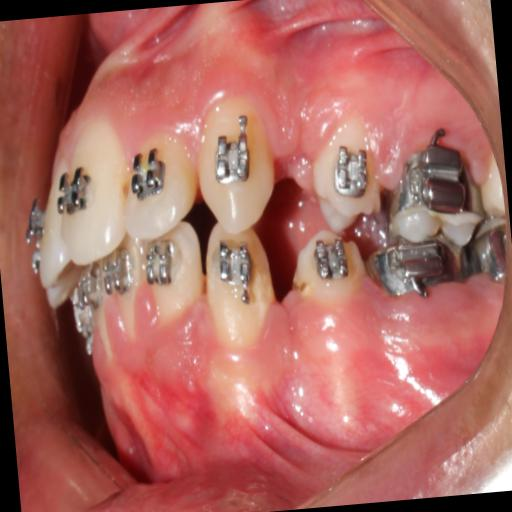correct_brace: (308, 112, 382, 230), (290, 226, 368, 312), (210, 124, 254, 190), (212, 234, 254, 290), (128, 146, 172, 199), (54, 162, 92, 220), (311, 232, 352, 285)
incorrect_brace: (126, 140, 200, 238), (332, 142, 372, 203)
